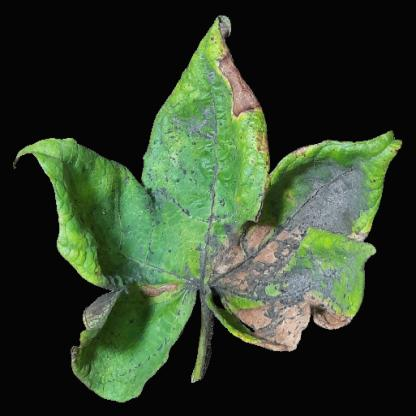curl_stage1: (41, 148, 109, 278), (196, 52, 230, 114), (244, 121, 269, 180)
sooty: (221, 235, 321, 312), (163, 114, 220, 236), (110, 252, 194, 310), (297, 174, 359, 236), (319, 246, 365, 320), (88, 297, 124, 336)
